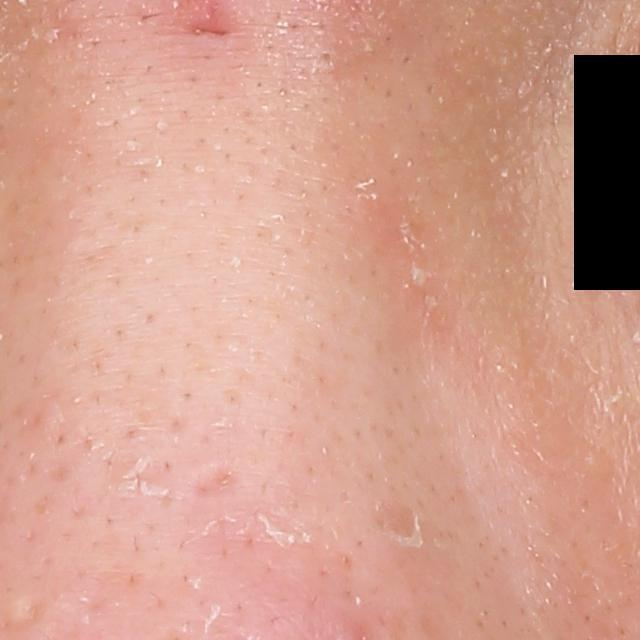atrophic_scar: (186, 458, 244, 507)
